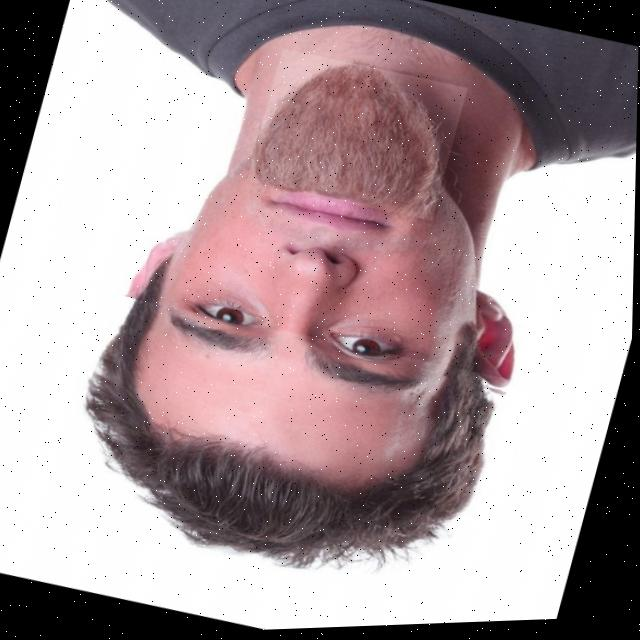beard: (254, 66, 443, 216)
hair: (87, 301, 486, 572)
